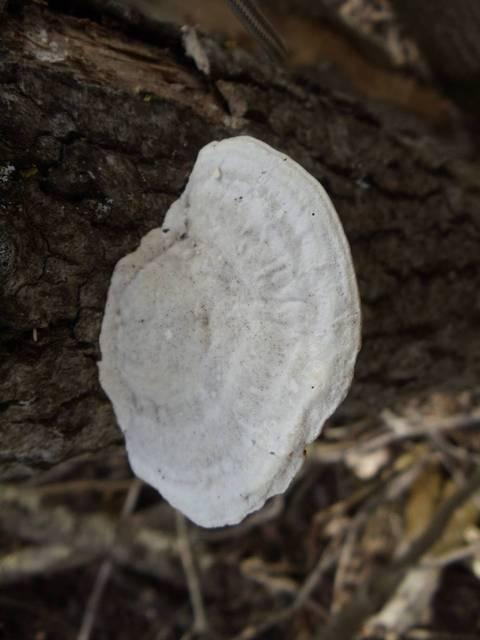poisonous_mushroom: (94, 133, 363, 530)
